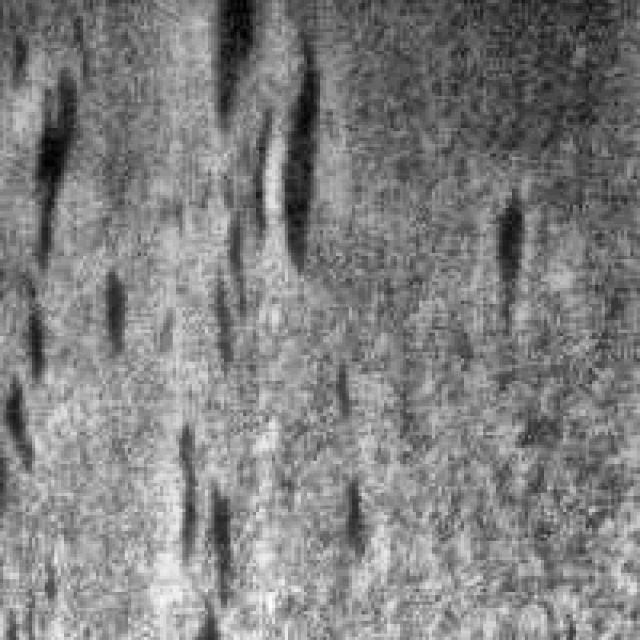Patches: (3, 22, 115, 470), (176, 0, 282, 371), (266, 15, 340, 278), (166, 410, 236, 628), (470, 170, 548, 358), (84, 246, 138, 362), (326, 467, 381, 560)
